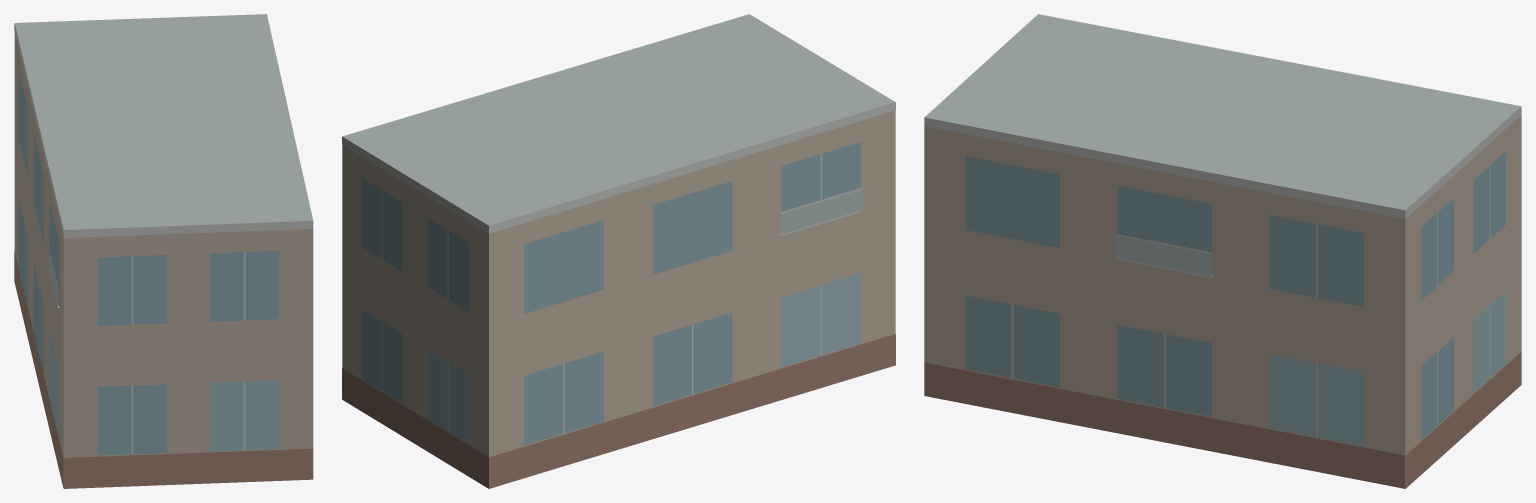
The model's file is survey-upis-32745961.glb.
3 views of the same model, side by side, from view 1: azimuth 30°, elevation 25°; view 2: azimuth 150°, elevation 25°; view 3: azimuth 270°, elevation 25° (orthographic). The views are drawn at different scales.
Visible parts, largest first — view 1: survey-upis-32745961.tmp; view 2: survey-upis-32745961.tmp; view 3: survey-upis-32745961.tmp.
Boxes of the visible parts, bbox=[...] form: survey-upis-32745961.tmp: bbox=[14, 14, 313, 488]; survey-upis-32745961.tmp: bbox=[342, 14, 895, 488]; survey-upis-32745961.tmp: bbox=[924, 14, 1521, 488].
Size of the model in its own units: 11.96 by 7.9 by 15.36.
